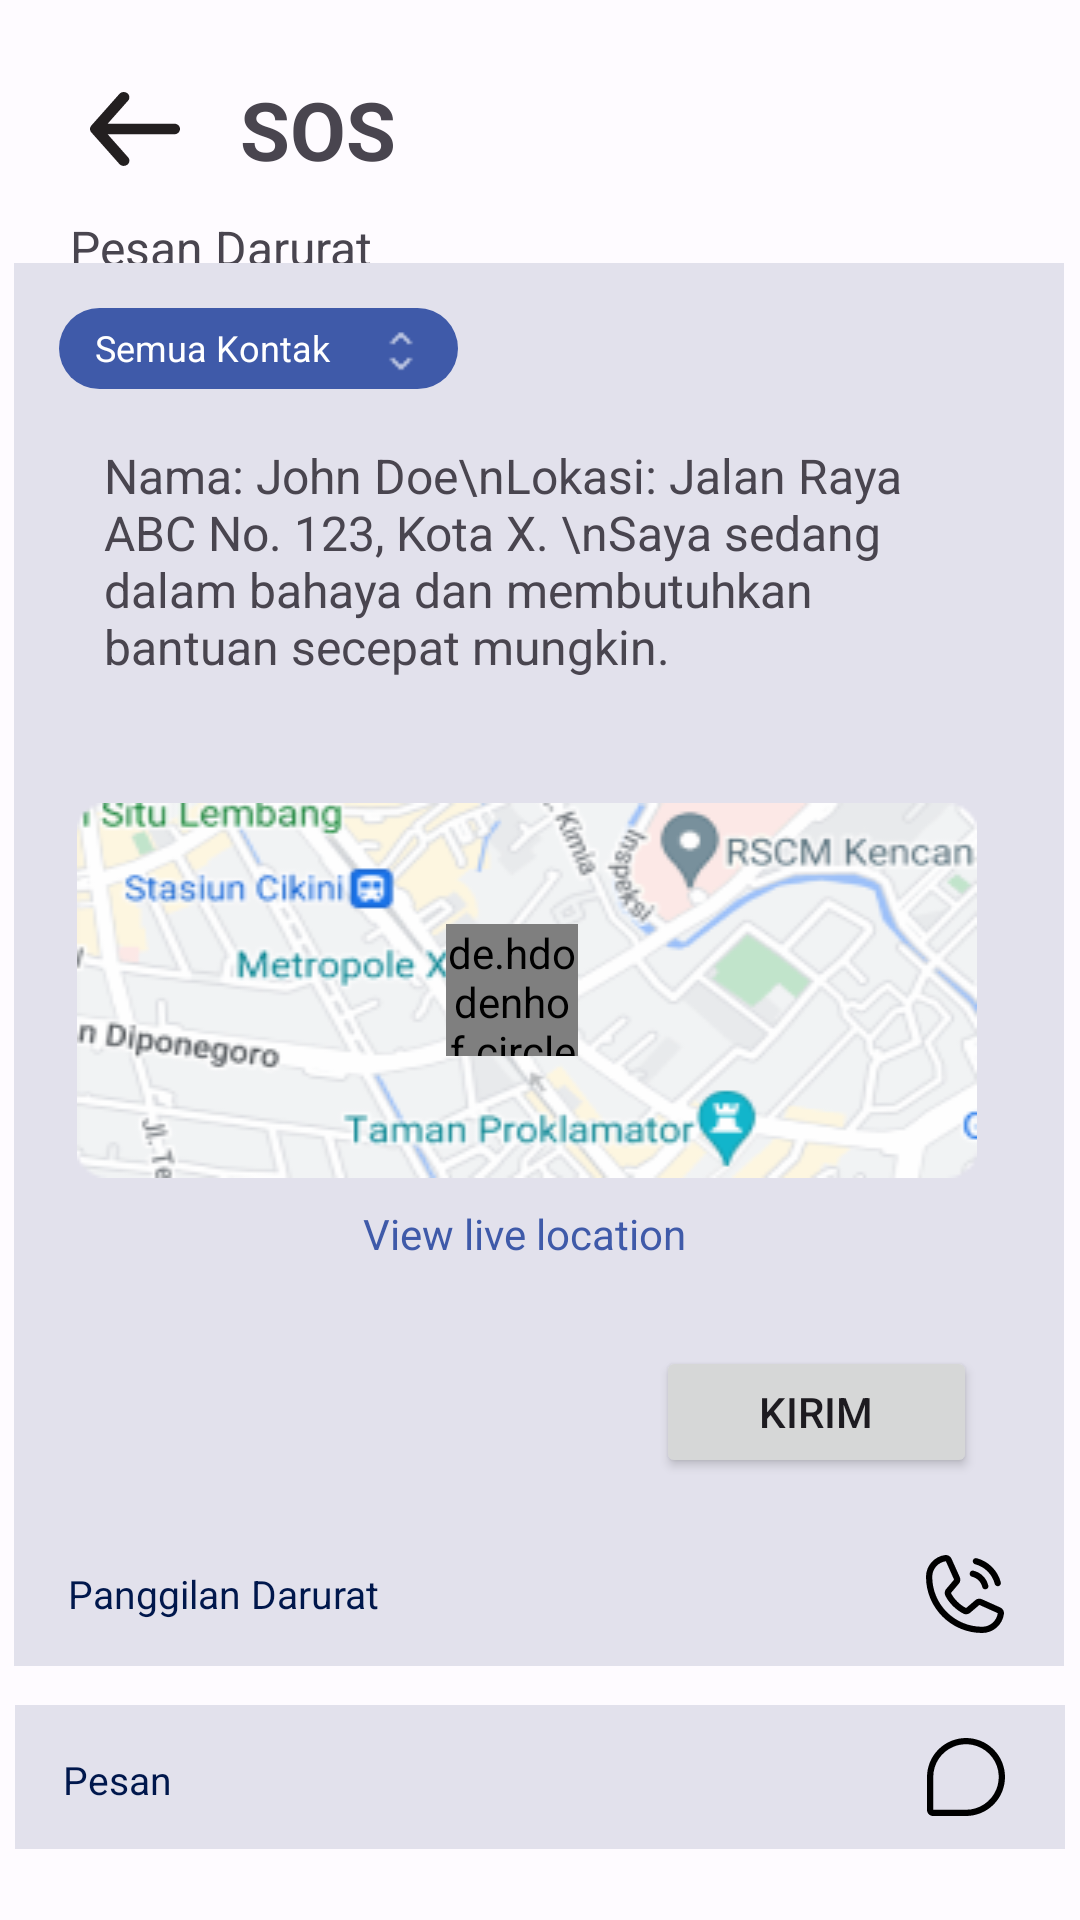

Point at icon controls on the screen. Image size 1080x1920, points as [x,y].
back: [135,129]
caretupdown: [401,351]
pesan: [966,1777]
telepon: [965,1594]
